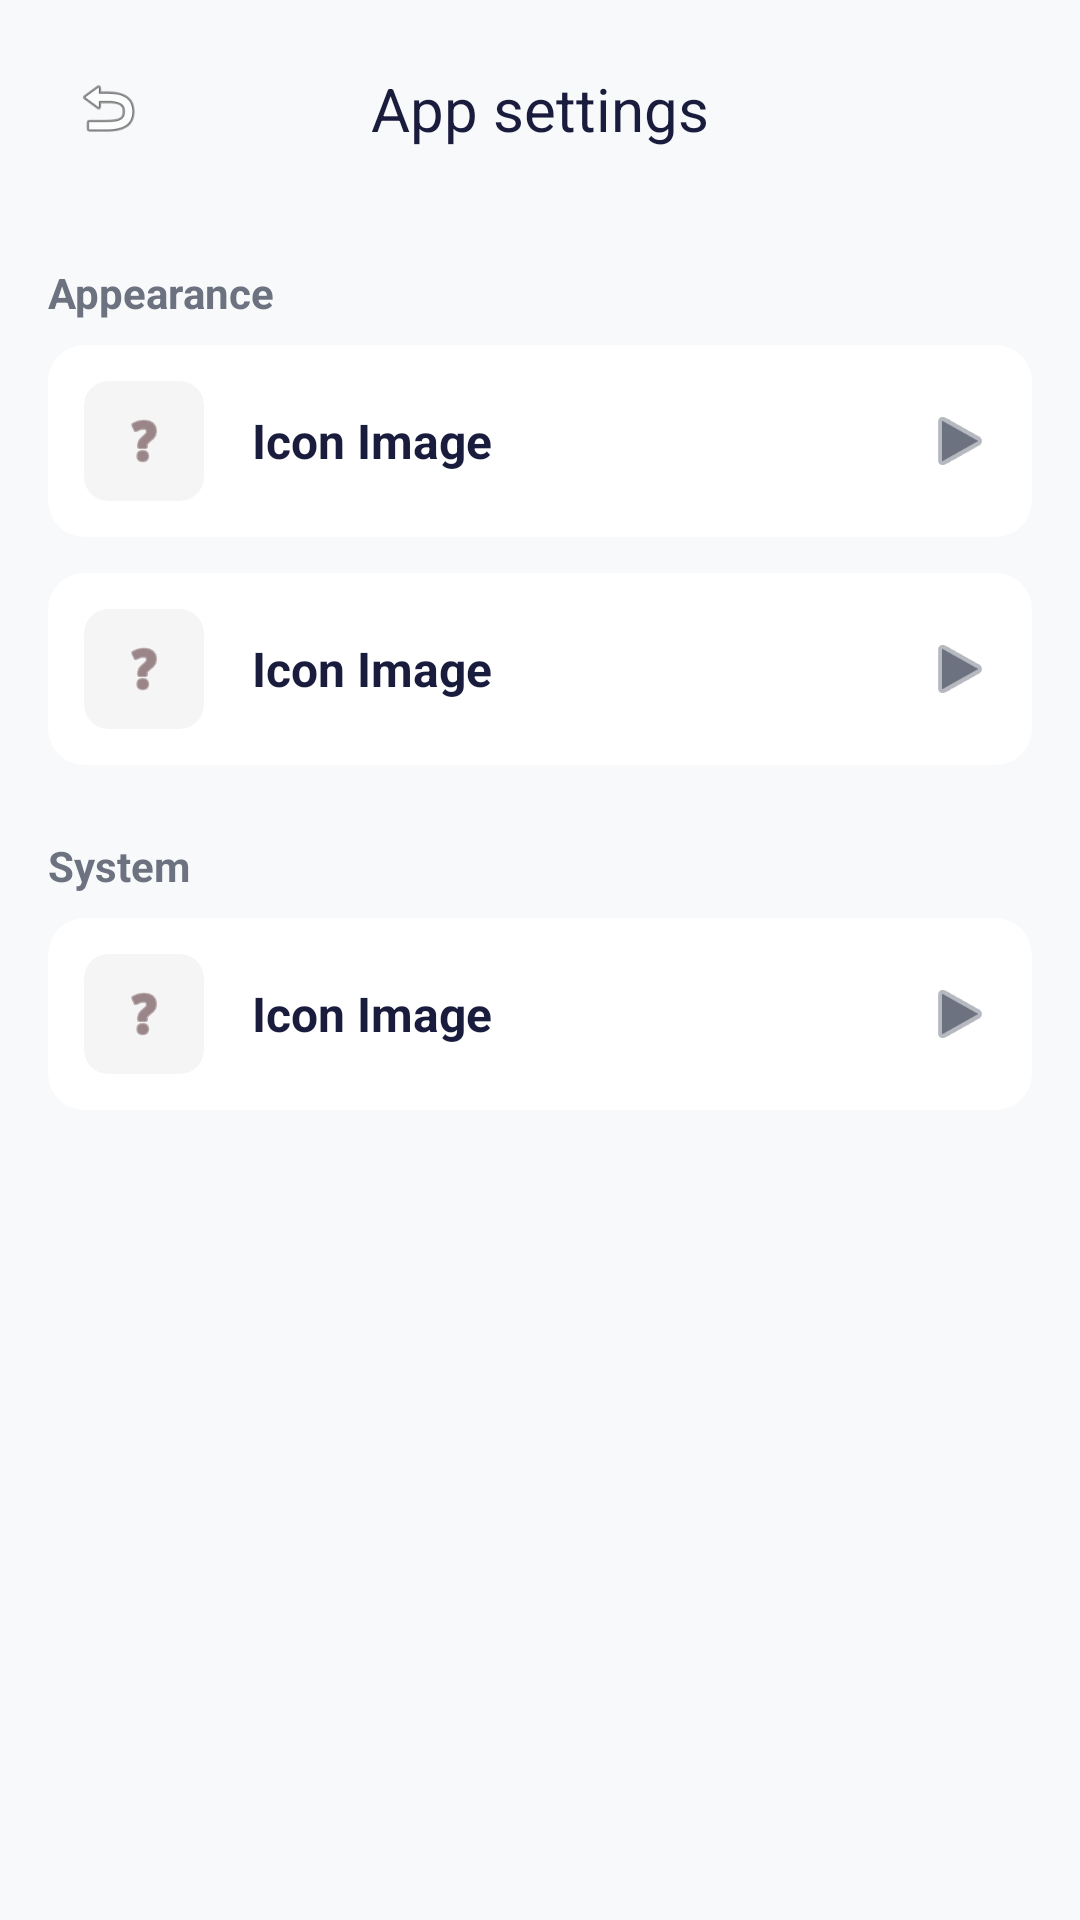

Locate icon controls on the screen. Image size 1080 x 1920, boxes as (x1=x1, y1=y1, x2=x2, y2=y2).
help: (x1=131, y1=419, x2=157, y2=463), (x1=131, y1=647, x2=157, y2=691), (x1=131, y1=992, x2=157, y2=1036)
play: (x1=938, y1=417, x2=982, y2=465), (x1=938, y1=645, x2=982, y2=693), (x1=938, y1=990, x2=982, y2=1038)
revert: (x1=83, y1=85, x2=135, y2=132)
